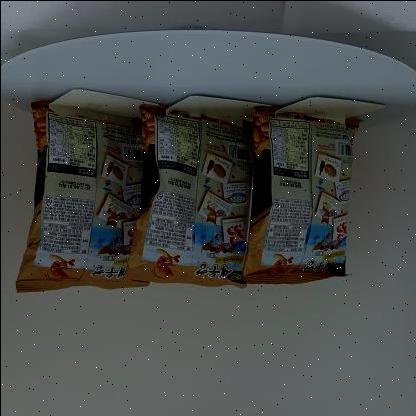Others: (11, 84, 362, 300), (25, 68, 359, 288)
